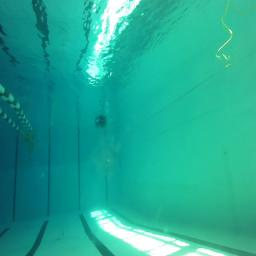Full: (95, 116, 107, 127)
